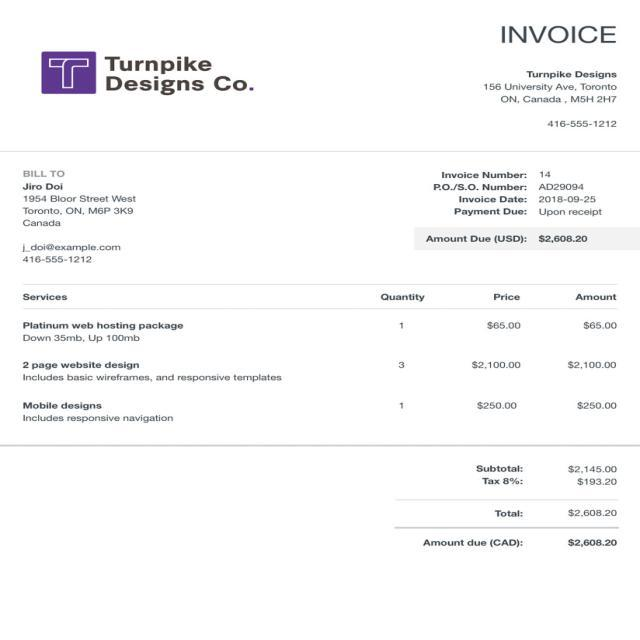ROI: (2, 279, 636, 447), (422, 461, 634, 576), (417, 162, 612, 256), (17, 165, 142, 270), (36, 48, 259, 102), (477, 69, 627, 128), (497, 20, 619, 49)
